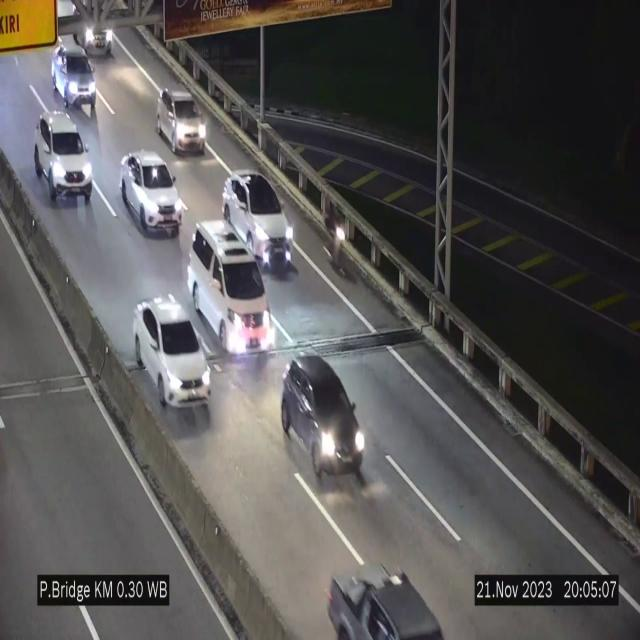Car: (278, 354, 368, 499), (187, 222, 275, 356), (133, 298, 211, 411), (223, 171, 293, 262), (35, 113, 92, 205), (120, 151, 182, 234), (52, 44, 98, 118), (156, 89, 206, 154)
Motorcycle: (324, 190, 348, 284)
